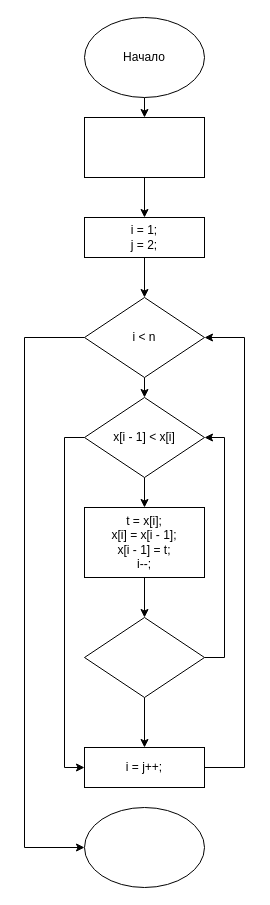
Some shapes in this 270 by 905 pixel diagram are drawn without their labels. Here are the shapes that lost their labels. From the top down, the centre of each, then its label:
(x=144, y=147): int x[10], int t, i, j; int n = sizeof(x) / sizeof(int);
(x=144, y=657): i > 0;
(x=144, y=847): Конец
